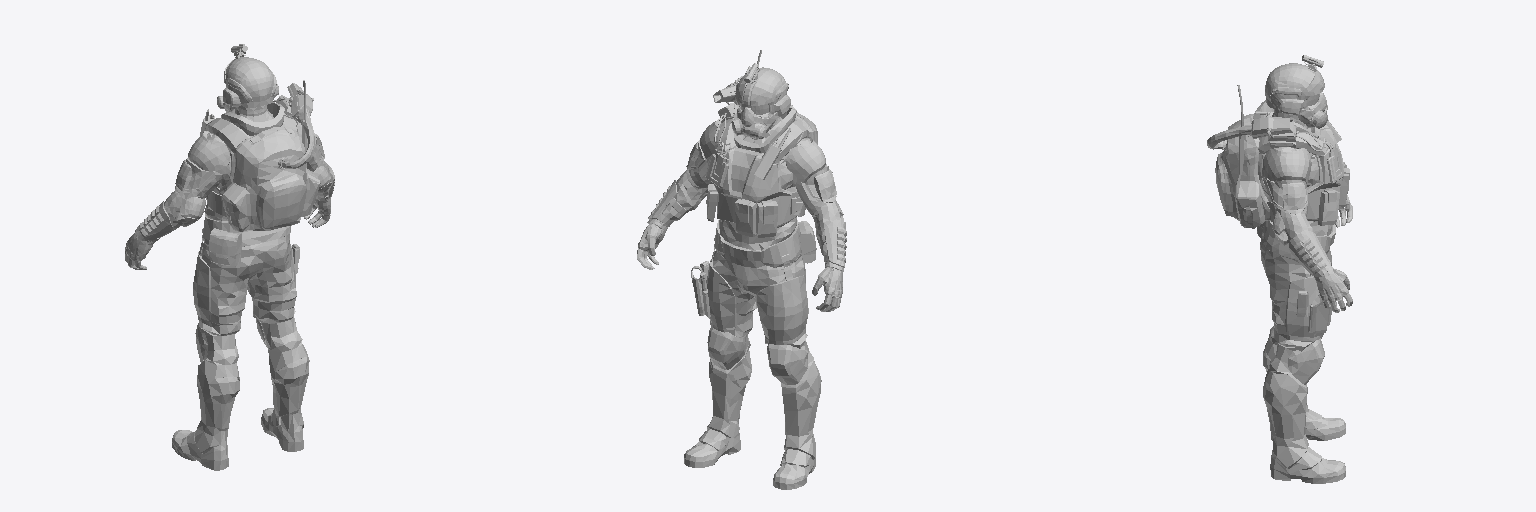
The model's file is CELL Assault Unit.obj.
3 views of the same model, side by side, from view 1: azimuth 30°, elevation 25°; view 2: azimuth 150°, elevation 25°; view 3: azimuth 270°, elevation 25° (orthographic).
Parts seen in each view (by area): view 1: Mesh_0411, Mesh_0417, Mesh_0415, Mesh_0416; view 2: Mesh_0411, Mesh_0415, Mesh_0417, Mesh_0416; view 3: Mesh_0411, Mesh_0415, Mesh_0417.
Part boxes in pixels (bbox=[...]): Mesh_0411: bbox=[172, 121, 324, 470]; Mesh_0417: bbox=[175, 83, 324, 265]; Mesh_0415: bbox=[194, 52, 334, 460]; Mesh_0416: bbox=[125, 132, 235, 269]; Mesh_0411: bbox=[684, 118, 836, 489]; Mesh_0415: bbox=[637, 67, 811, 472]; Mesh_0417: bbox=[687, 76, 836, 263]; Mesh_0416: bbox=[780, 130, 846, 311]; Mesh_0411: bbox=[1260, 128, 1345, 483]; Mesh_0415: bbox=[1253, 63, 1352, 439]; Mesh_0417: bbox=[1207, 111, 1349, 237].
Size of the model in its own units: 100 by 193 by 63.81.